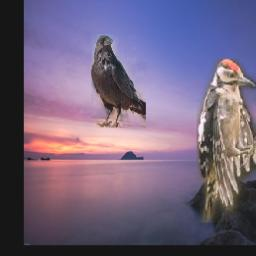Crow: (92, 35, 147, 128)
Woodpecker: (196, 60, 256, 224)
